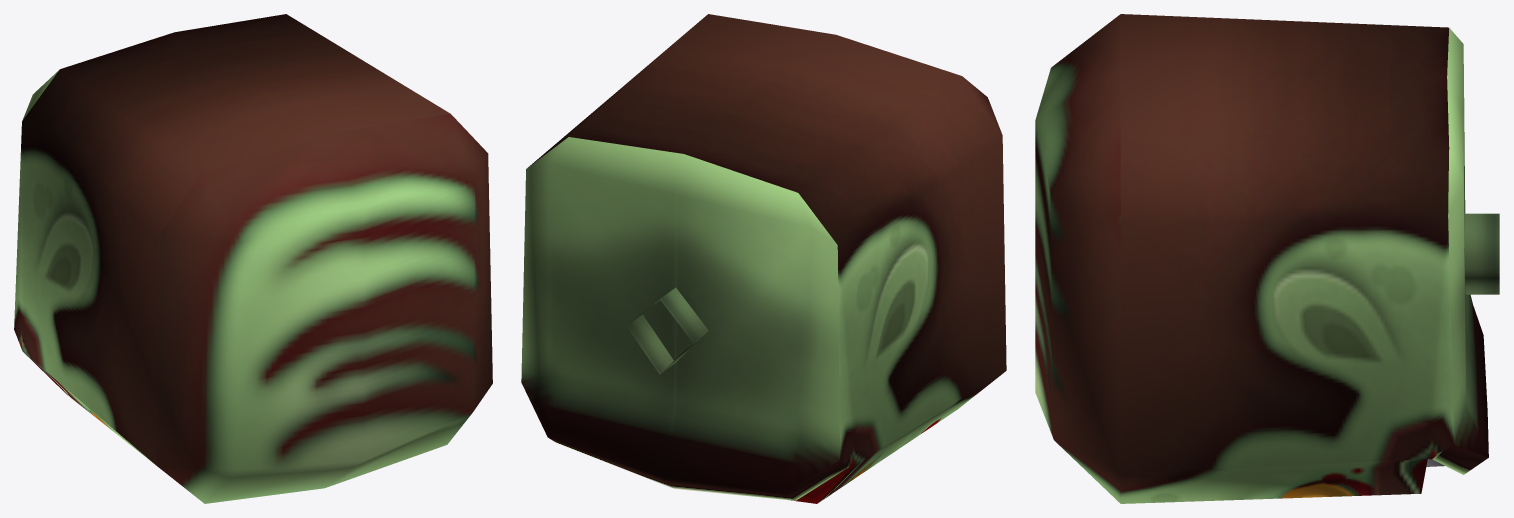
Rendered from Zombie_Hook_Demon_01_fe284832__Zombie_Hook_Demon_01_2ffe6963_c1f257.obj.
3 renders of one model, left to right at view 1: azimuth 30°, elevation 25°; view 2: azimuth 150°, elevation 25°; view 3: azimuth 270°, elevation 25°, orthographic. The views are drawn at different scales.
Size of the model in its own units: 0.8055 by 0.8101 by 0.8852.
Materials: 1 (1 with a texture image).
